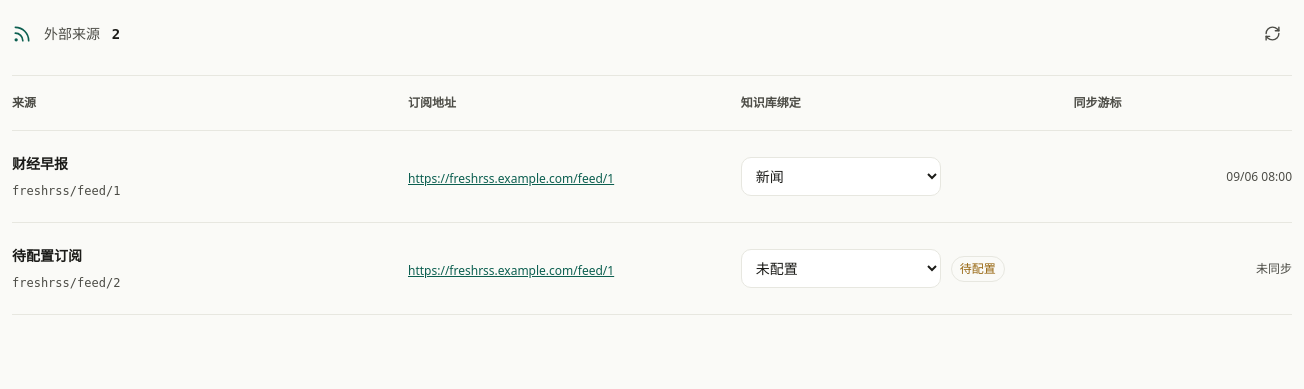
Test: SourcesPage › unbinds a bound source and reports the new baseline
Select "未配置" in the dropdown named "绑定来源 财经早报" at (841, 176), box [741, 157, 941, 196]
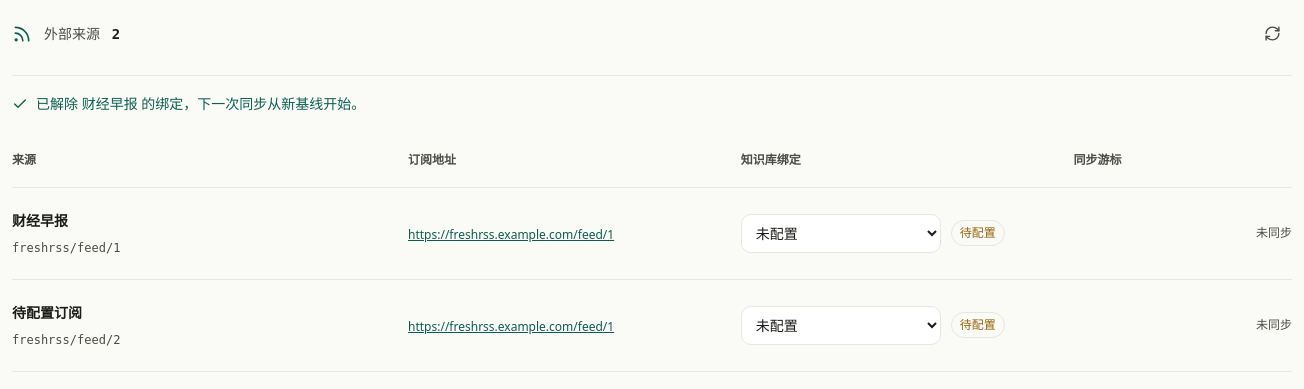
Expected: the message "已解除 财经早报 的绑定，下一次同步从新基线开始。" is shown, [12, 94, 365, 113]
Expected: the text with class "unbound-badge" in the row of "freshrss/feed/1" is shown, [951, 220, 1005, 246]
